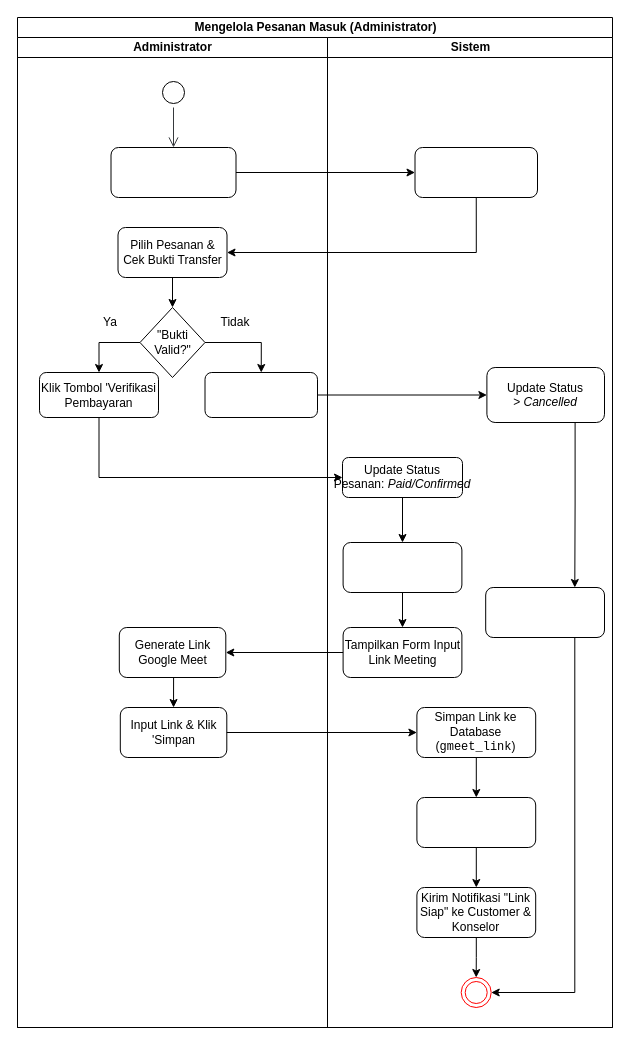
This 630x1045 diagram has some shape labels left out. Here are the shapes that lost their labels. From the top down, the centre of each, then its label:
pixel 173 172: Buka Menu Pesanan Masuk
pixel 476 172: Menampilkan Daftar Pesanan (Filter: Menunggu Konfirmasi )
pixel 261 395: Klik Tombol "Tolak Pembayaran"
pixel 402 567: Kirim Notifikasi Pembayaran Diterima
pixel 544 612: Kirim Notifikasi Pembayaran Ditolak
pixel 476 822: Update Status Pesanan: Ready (Siap Konseling)
